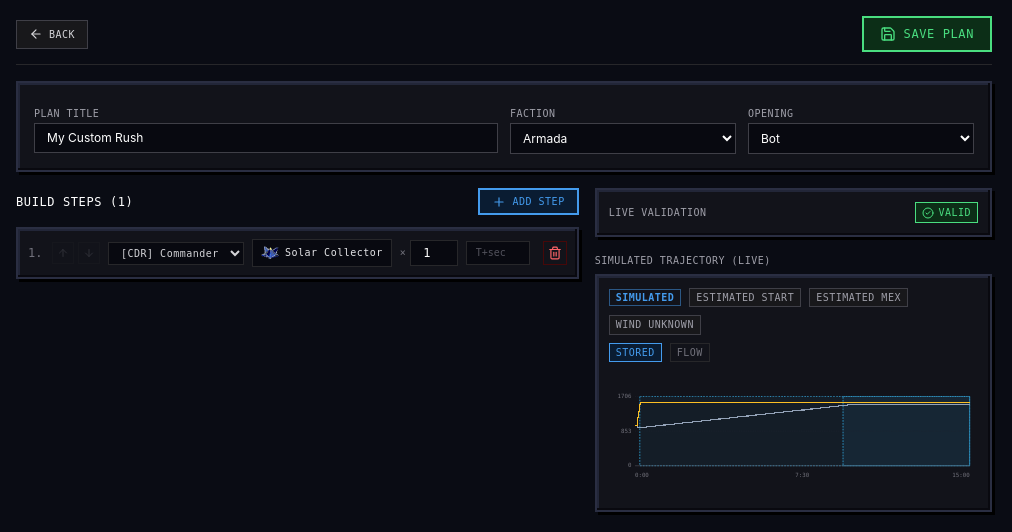
PlanEditorView › allows deleting a step and shows empty state
The width and height of the screenshot is (1012, 532).
Click the button with test id "btn-delete-step-0".
click(555, 253)  # box [543,241,567,265]
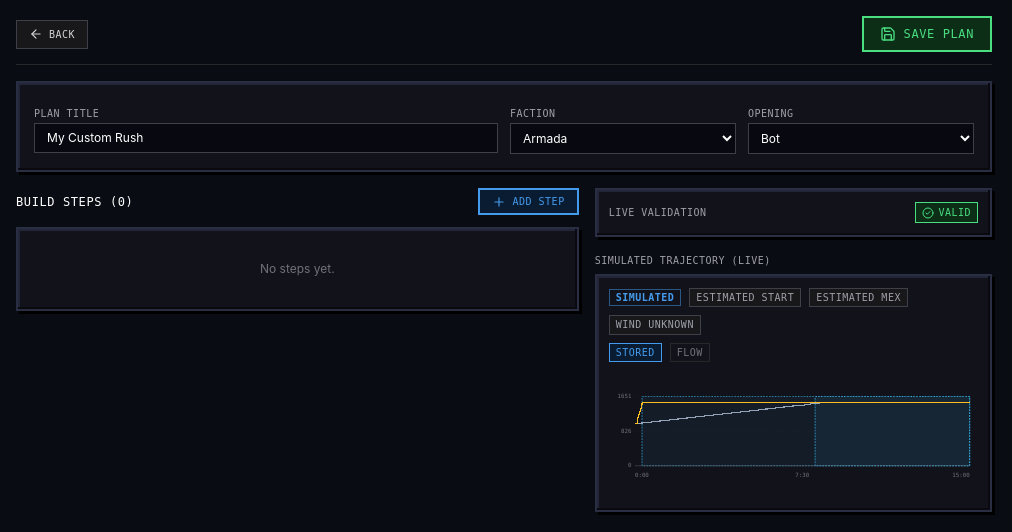
Check: the text "No steps yet." is shown, box [16,227,579,311]
